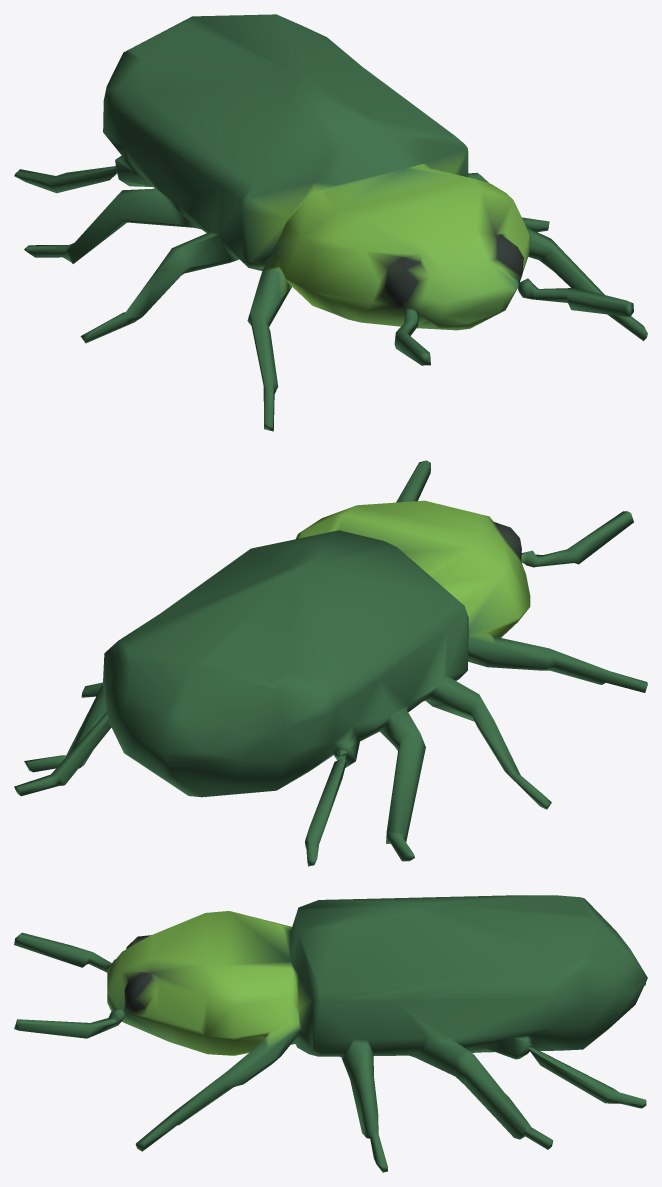
The model's file is gen3d-alien-bug-lod1.glb.
The picture shows the model from 3 angles, top to bottom: view 1: azimuth 30°, elevation 25°; view 2: azimuth 150°, elevation 25°; view 3: azimuth 270°, elevation 25°; orthographic projection. The views are drawn at different scales.
Visible parts, largest first — view 1: part_0; view 2: part_0; view 3: part_0.
Part boxes in pixels (<box>): part_0: <box>14,14,647,431</box>; part_0: <box>14,460,647,866</box>; part_0: <box>14,895,647,1172</box>.
Bounding box in the file's own units: 2.45 × 0.9957 × 3.34.
